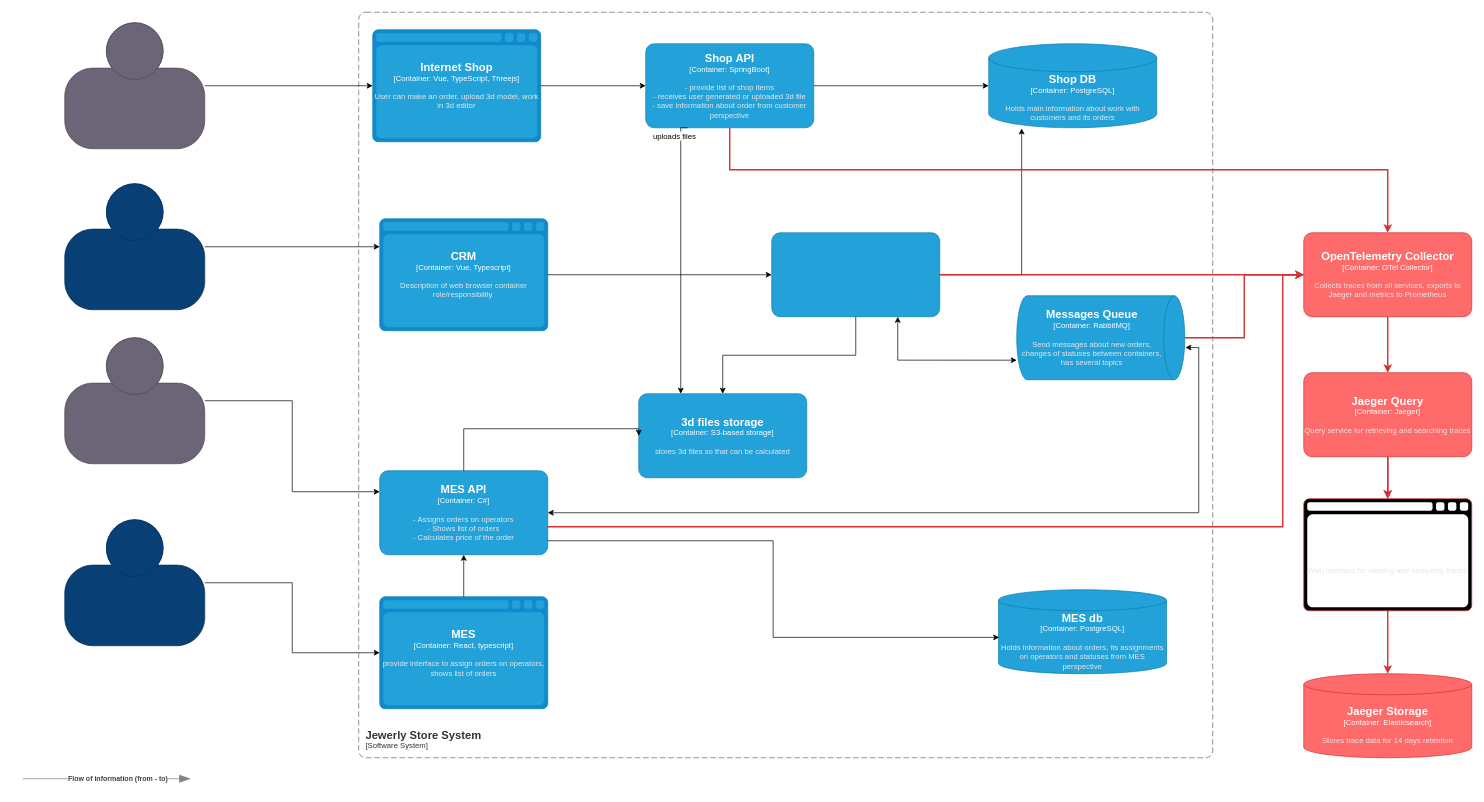
Image size: 1484x802. Some labels were removed from this diagram. The shapes that lost their labels are listed below. From the top down, each one's centre as x and y in pixels, then its label:
the point at 134,85: Customer [Person] Description of external person.
the point at 134,246: Seller [Person] Operates with order, confirms manufacturing for the user
the point at 855,274: CRM API [Container: SpringBoot] Description of container role/responsibility.
the point at 134,400: API user [Person] Description of external person.
the point at 134,582: Operator [Person] Takes order in work, manufactures jewerly
